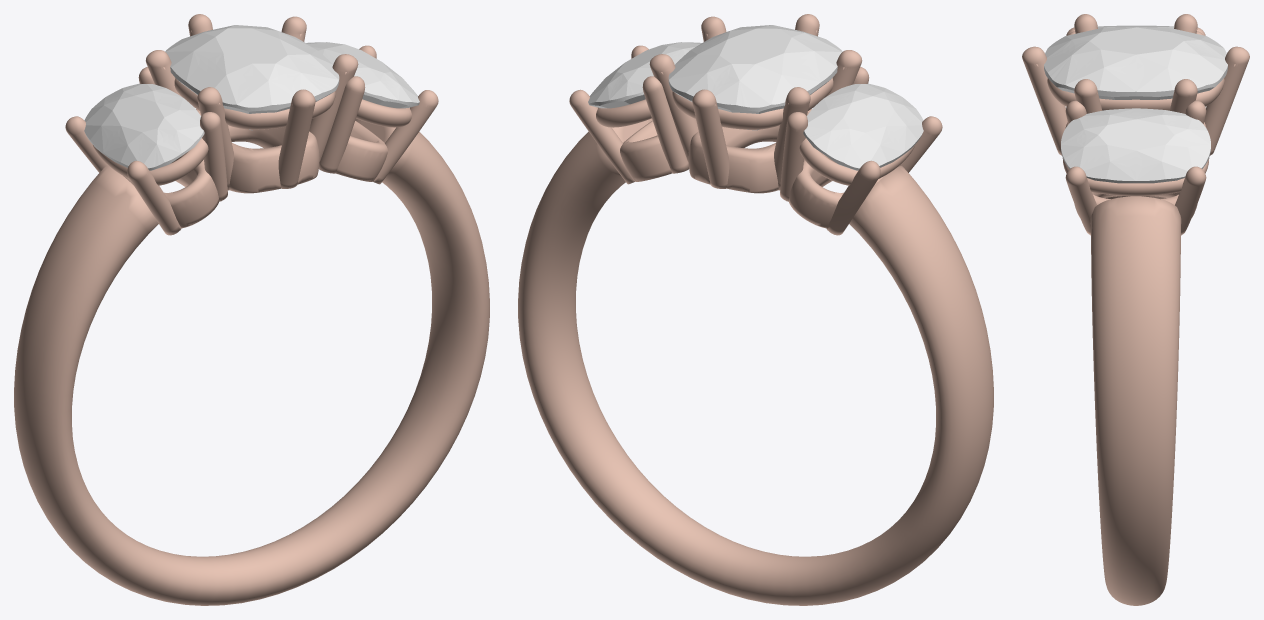
Rendered from diamond-cushion-rosegold-6prong-taperedband-3stone.glb.
The picture shows the model from 3 angles, left to right: view 1: azimuth 30°, elevation 25°; view 2: azimuth 150°, elevation 25°; view 3: azimuth 270°, elevation 25°; orthographic projection.
Parts seen in each view (by area): view 1: metal.001, stone.002, side.004, side.005; view 2: metal.001, stone.002, side.004, side.005; view 3: metal.001, stone.002, side.005.
Boxes of the visible parts, <box> form: metal.001: <box>14,14,489,605</box>; stone.002: <box>165,25,339,130</box>; side.004: <box>84,83,204,170</box>; side.005: <box>306,42,419,108</box>; metal.001: <box>518,14,993,605</box>; stone.002: <box>668,25,842,130</box>; side.004: <box>803,83,923,170</box>; side.005: <box>588,42,701,108</box>; metal.001: <box>1022,14,1249,605</box>; stone.002: <box>1044,27,1227,99</box>; side.005: <box>1061,108,1210,183</box>.
Size of the model in its own units: 20.09 by 23.03 by 8.8.
